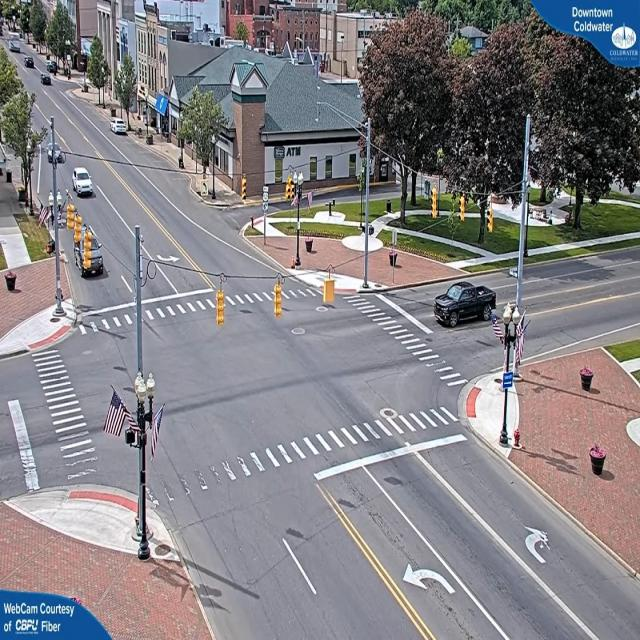car: (432, 280, 496, 328), (71, 169, 93, 199), (112, 119, 130, 136)
